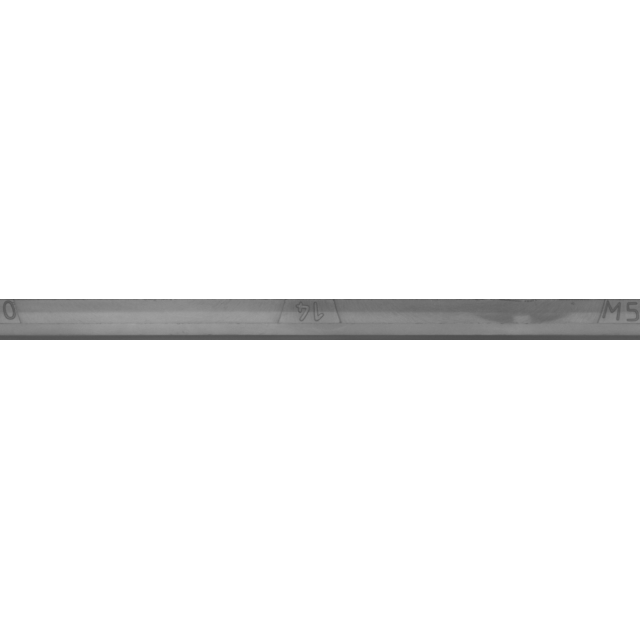mohao: (525, 270, 640, 370)
xuehao: (209, 270, 409, 370)
